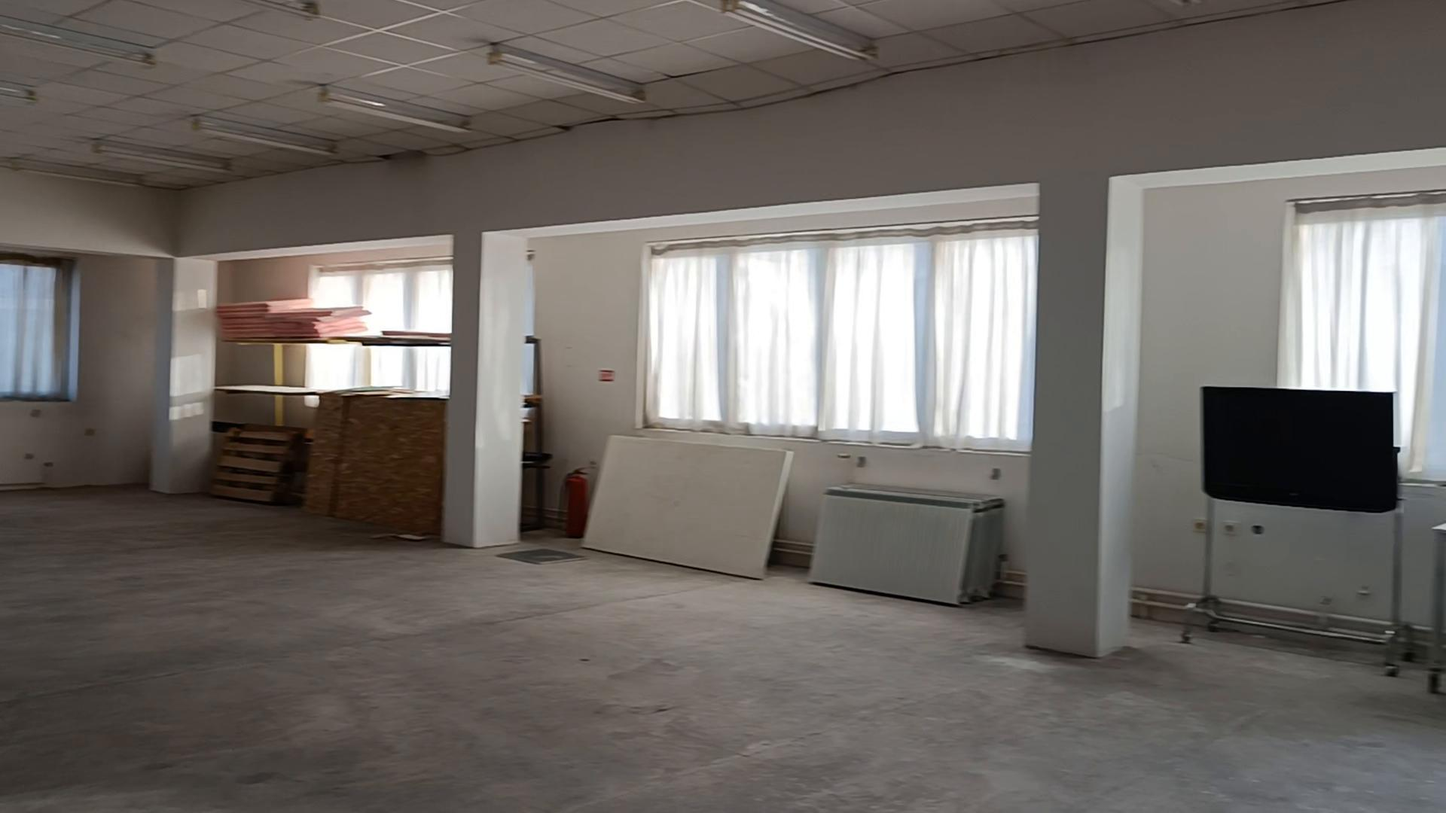ceiling: (0, 0, 1333, 188)
floor: (0, 489, 1445, 812)
wall: (6, 1, 1443, 662), (1141, 187, 1278, 582), (4, 263, 161, 477), (1211, 507, 1386, 620), (541, 247, 645, 435)
